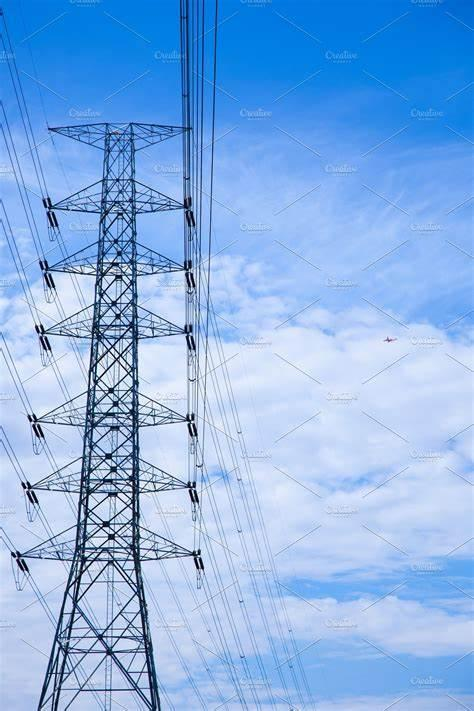power_tower: (16, 104, 221, 711)
